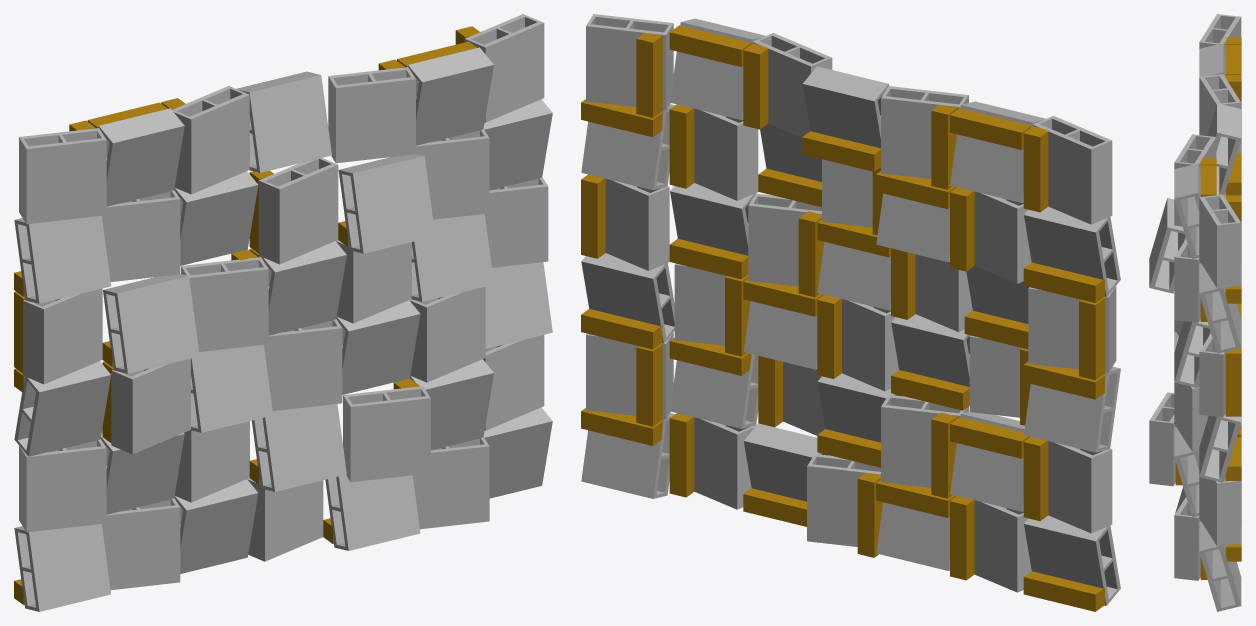
File: nil_link_mesh.dae
The picture shows the model from 3 angles, left to right: view 1: azimuth 30°, elevation 25°; view 2: azimuth 150°, elevation 25°; view 3: azimuth 270°, elevation 25°; orthographic projection. The views are drawn at different scales.
Parts seen in each view (by area): view 1: nil_link (×84); view 2: nil_link (×123); view 3: nil_link (×45).
Boxes of the visible parts, <box> form: nil_link (×84): <box>14,14,552,611</box>; nil_link (×123): <box>581,14,1120,611</box>; nil_link (×45): <box>1149,14,1241,611</box>.
Bounding box in the file's own units: 2.81 × 2.41 × 0.5186.
